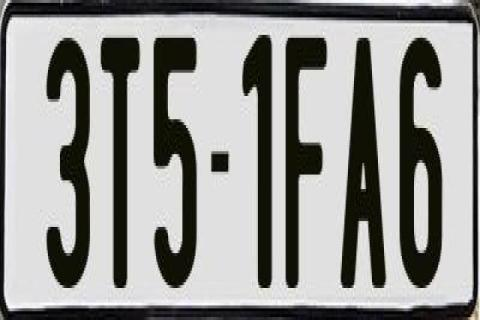0: (398, 32, 448, 300), (46, 35, 90, 299), (150, 29, 194, 282), (242, 29, 276, 297)
A: (341, 35, 393, 285)
F: (282, 35, 328, 297)
T: (100, 32, 146, 285)
